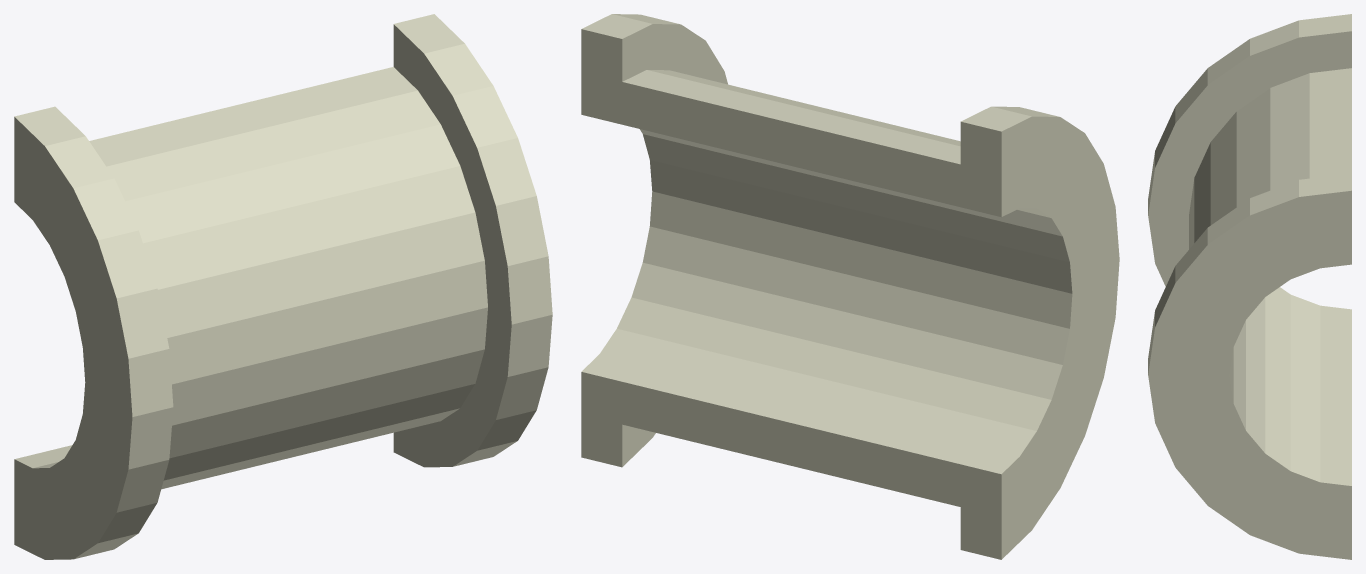
Rendered from section_188.obj.
3 views of the same model, side by side, from view 1: azimuth 30°, elevation 25°; view 2: azimuth 150°, elevation 25°; view 3: azimuth 270°, elevation 25° (orthographic). The views are drawn at different scales.
Size of the model in its own units: 10.26 by 10 by 5.
